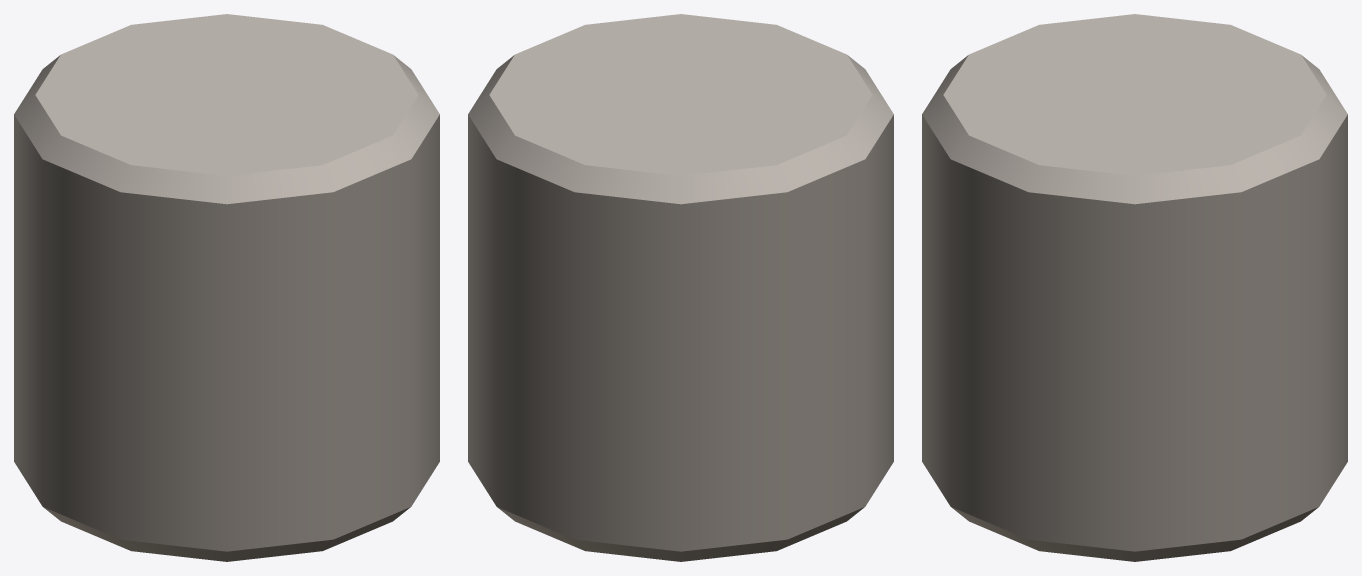
Rendered from m_deco_pillarCylinder.FBX.
3 renders of one model, left to right at view 1: azimuth 30°, elevation 25°; view 2: azimuth 150°, elevation 25°; view 3: azimuth 270°, elevation 25°, orthographic.
Visible parts, largest first — view 1: m_deco_pillarCylinder; view 2: m_deco_pillarCylinder; view 3: m_deco_pillarCylinder.
Part boxes in pixels (left/top/right/bottom): m_deco_pillarCylinder: left=14, top=14, right=439, bottom=561; m_deco_pillarCylinder: left=468, top=14, right=893, bottom=561; m_deco_pillarCylinder: left=922, top=14, right=1347, bottom=561.
Bounding box in the file's own units: 2 × 2 × 2.
